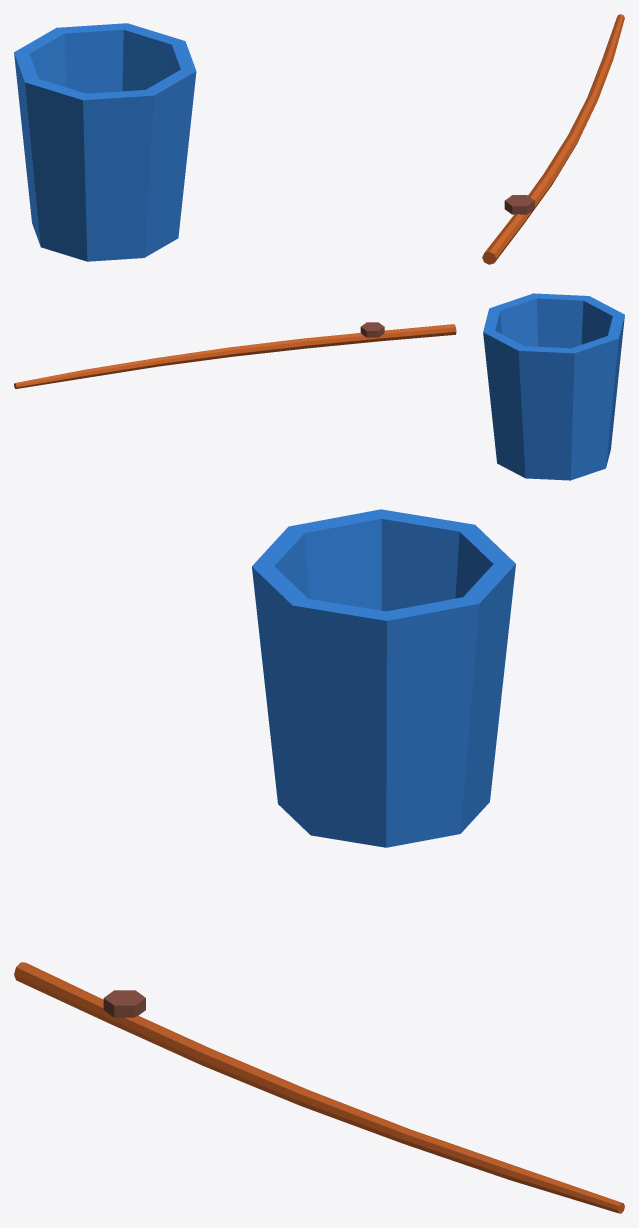
The model's file is Fishing.glb.
3 views of the same model, one above another, from view 1: azimuth 30°, elevation 25°; view 2: azimuth 150°, elevation 25°; view 3: azimuth 270°, elevation 25° (orthographic). The views are drawn at different scales.
Parts seen in each view (by area): view 1: Bucket, Rod, Cylinder.004; view 2: Bucket, Rod, Cylinder.004; view 3: Bucket, Rod, Cylinder.004.
Part boxes in pixels (bbox=[...]): Bucket: bbox=[14, 23, 196, 261]; Rod: bbox=[482, 14, 624, 264]; Cylinder.004: bbox=[504, 195, 534, 214]; Bucket: bbox=[483, 293, 624, 480]; Rod: bbox=[14, 324, 456, 388]; Cylinder.004: bbox=[360, 322, 384, 337]; Bucket: bbox=[252, 509, 515, 847]; Rod: bbox=[14, 962, 624, 1213]; Cylinder.004: bbox=[103, 990, 145, 1017].
Bounding box in the file's own units: 1.43 × 0.3411 × 0.7852.
